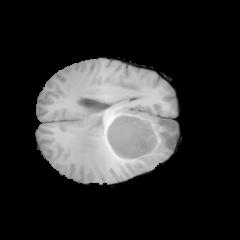glioma: (70, 102, 177, 160)
